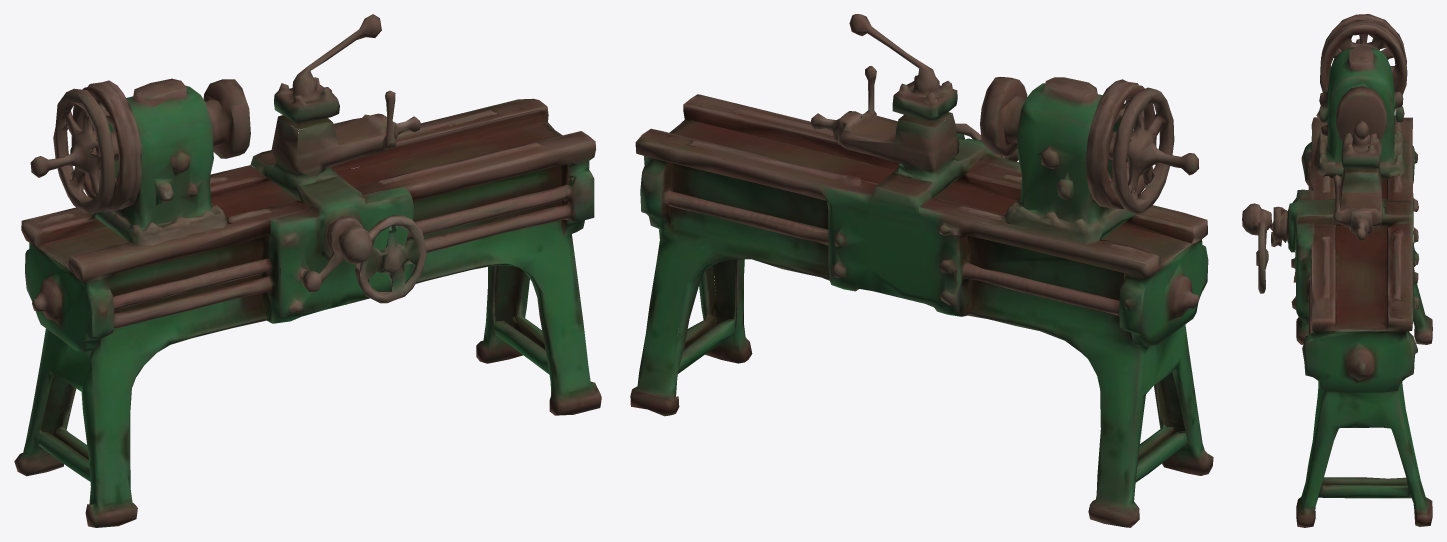
The model's file is torno.glb.
3 views of the same model, side by side, from view 1: azimuth 30°, elevation 25°; view 2: azimuth 150°, elevation 25°; view 3: azimuth 270°, elevation 25° (orthographic). The views are drawn at different scales.
Visible parts, largest first — view 1: geometry_0; view 2: geometry_0; view 3: geometry_0.
Part boxes in pixels (box(x1,y1,x2,y2)): geometry_0: box(14, 14, 601, 527); geometry_0: box(630, 14, 1213, 527); geometry_0: box(1242, 14, 1432, 527).
Bounding box in the file's own units: 1.6 × 1.15 × 0.6.
1 material, 1 textured.
